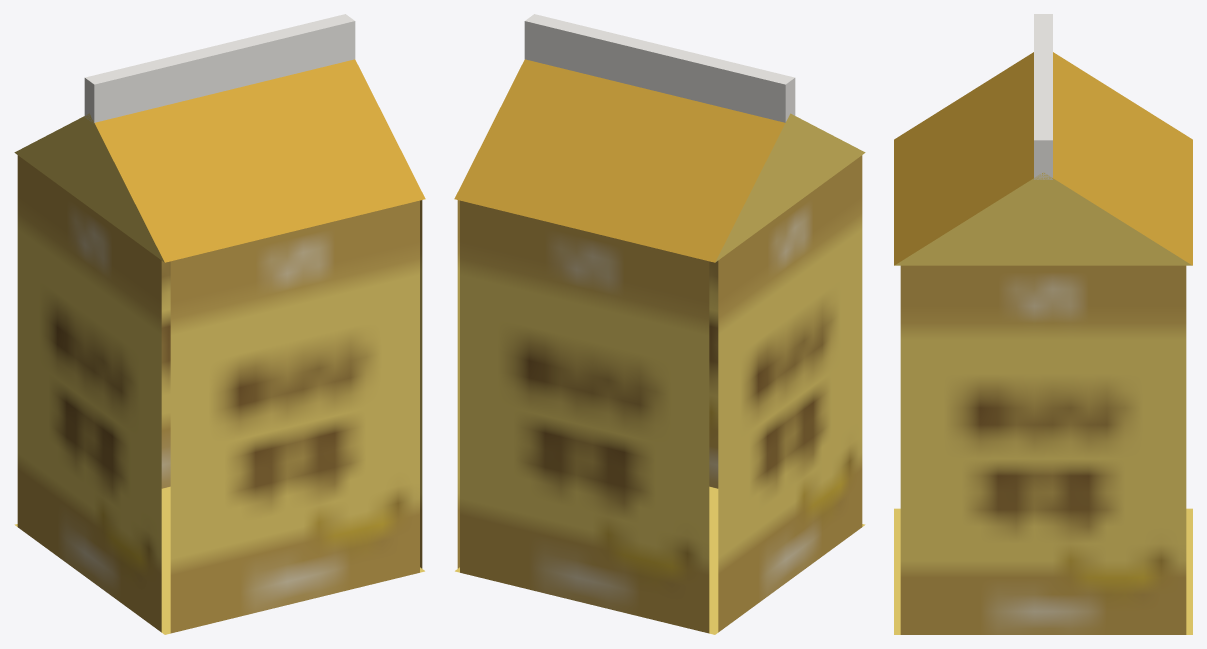
Rendered from SC_Prod_Banana_Milk_Generic.gltf.
3 views of the same model, side by side, from view 1: azimuth 30°, elevation 25°; view 2: azimuth 150°, elevation 25°; view 3: azimuth 270°, elevation 25° (orthographic).
Visible parts, largest first — view 1: SC_Prod_Banana_Milk_Generic; view 2: SC_Prod_Banana_Milk_Generic; view 3: SC_Prod_Banana_Milk_Generic.
Boxes of the visible parts, bbox=[...] form: SC_Prod_Banana_Milk_Generic: bbox=[14, 14, 425, 634]; SC_Prod_Banana_Milk_Generic: bbox=[454, 14, 865, 634]; SC_Prod_Banana_Milk_Generic: bbox=[894, 14, 1192, 634].
Bounding box in the file's own units: 0.055 × 0.1005 × 0.055.
2 materials, 2 textured.
